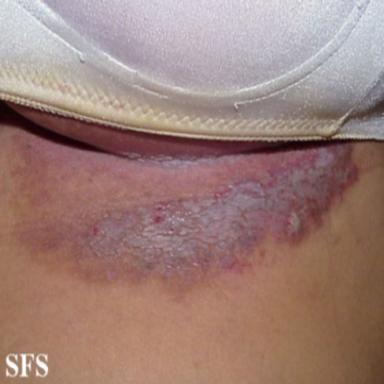Hailey-Hailey-Disease: (87, 147, 355, 276)
